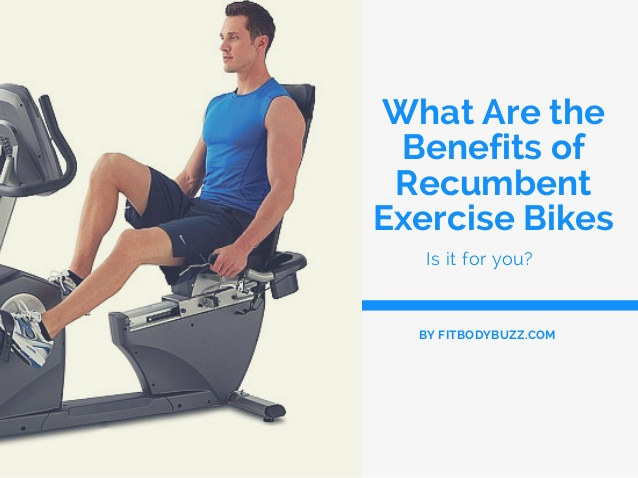gym_bike: (1, 78, 330, 437)
